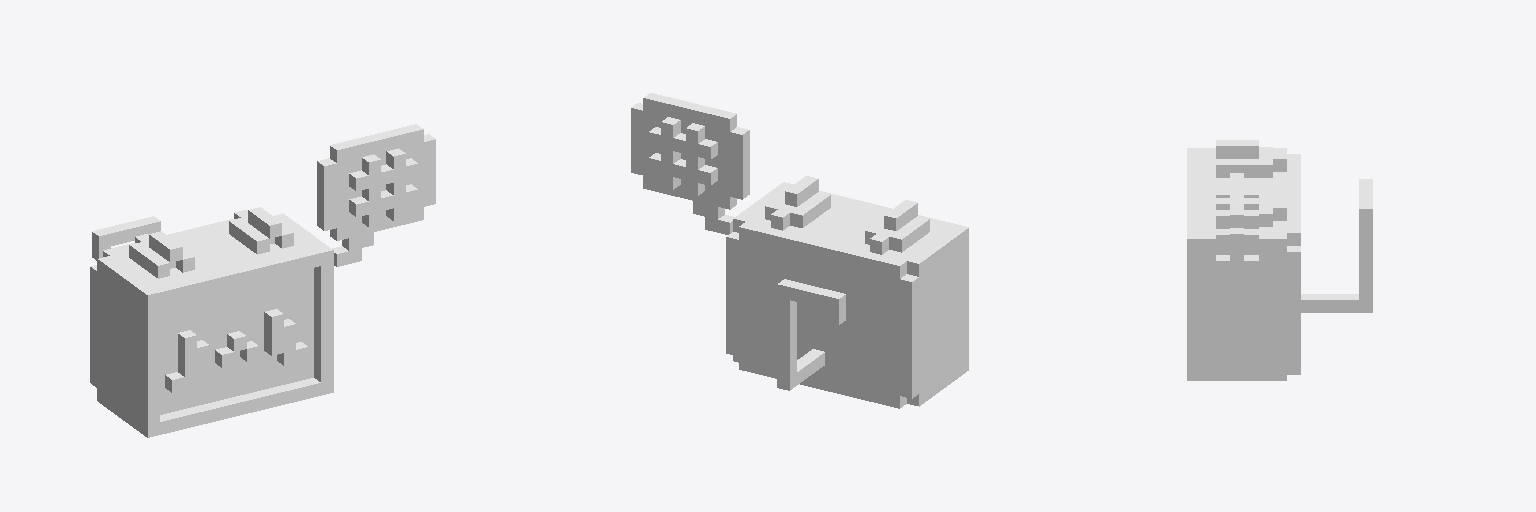
The model's file is cat.obj.
3 views of the same model, side by side, from view 1: azimuth 30°, elevation 25°; view 2: azimuth 150°, elevation 25°; view 3: azimuth 270°, elevation 25° (orthographic).
Size of the model in its own units: 25 by 17 by 13.